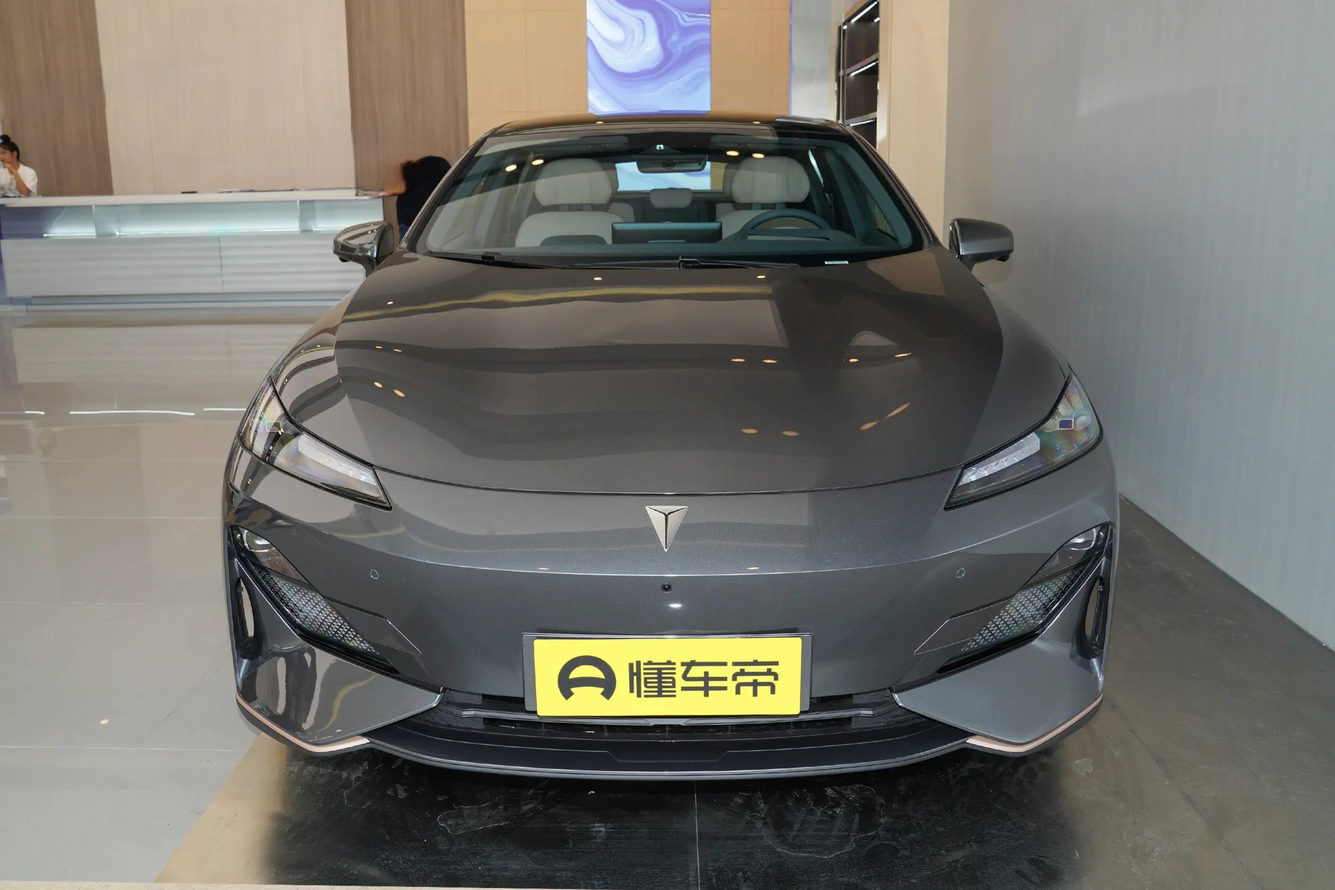Deepal: (646, 506, 688, 551)
